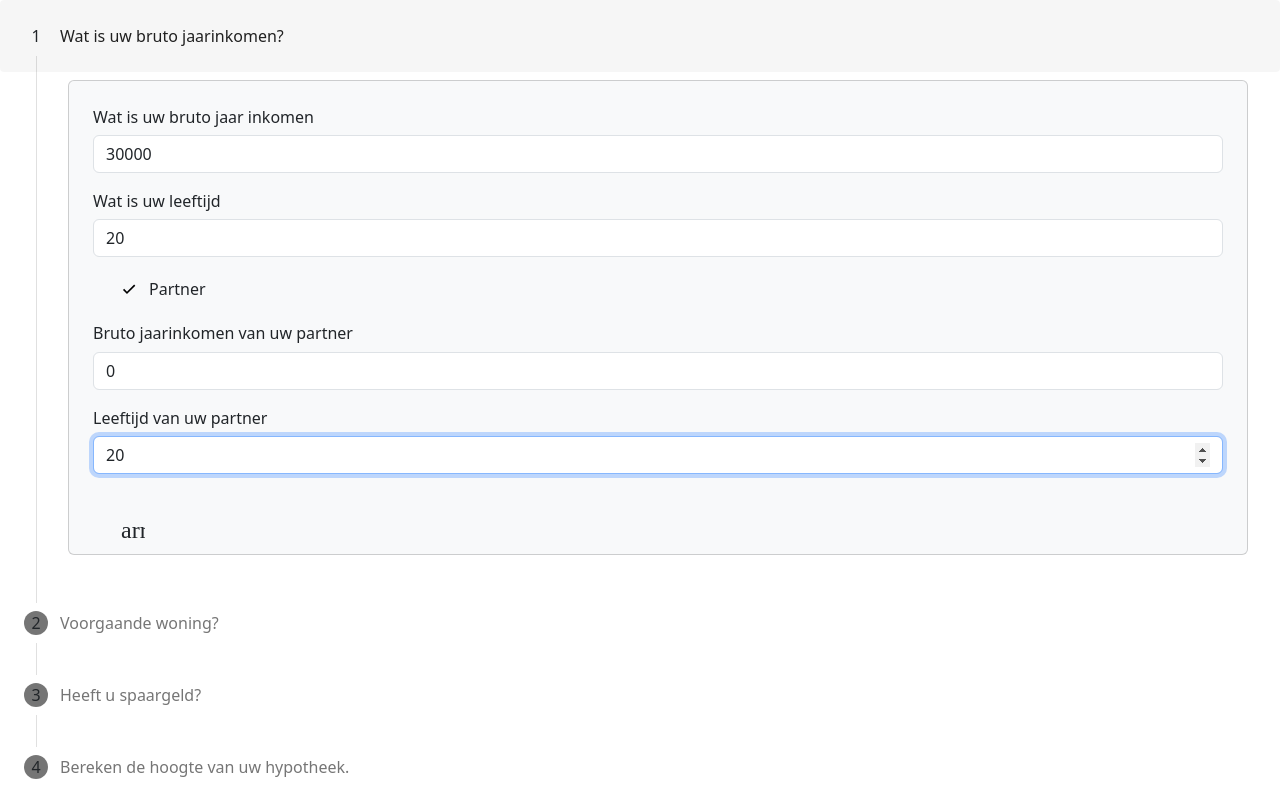
Test: FormComponent › Step 1 › should show an error on leeftijd of the partner when a invalid value is entered
The width and height of the screenshot is (1280, 800).
Clear the number field labelled "Leeftijd van uw partner" at (658, 455), box [93, 436, 1223, 474]
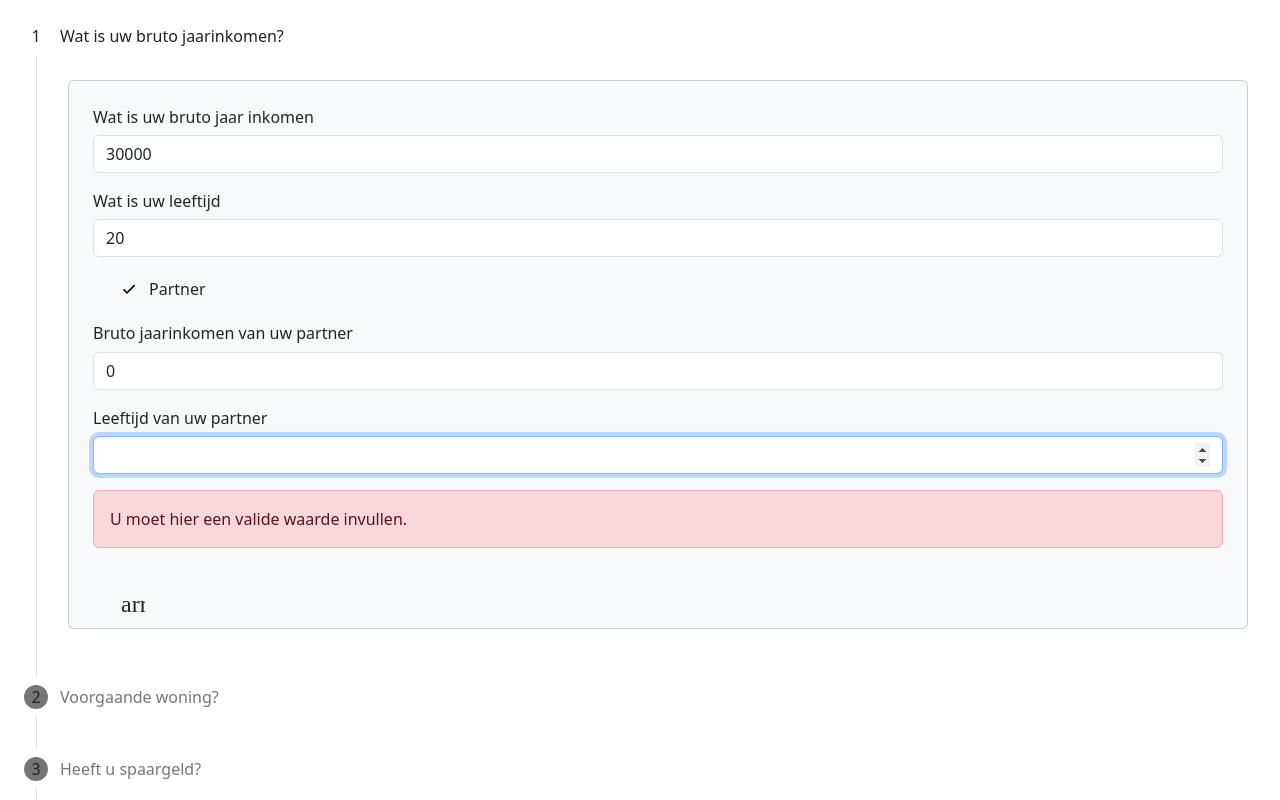
Expected: the text "U moet hier een valide waarde invullen." is shown, [110, 508, 407, 530]
